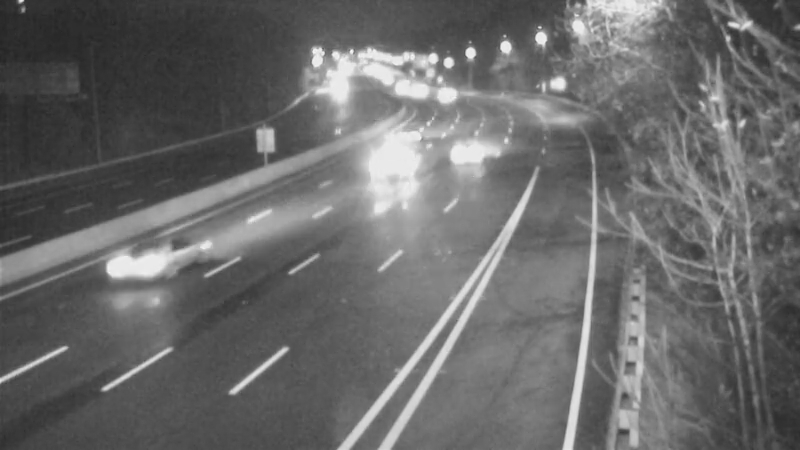vehicle: (343, 125, 423, 205), (97, 228, 177, 308), (424, 71, 474, 121), (394, 110, 444, 160), (437, 121, 487, 171)
